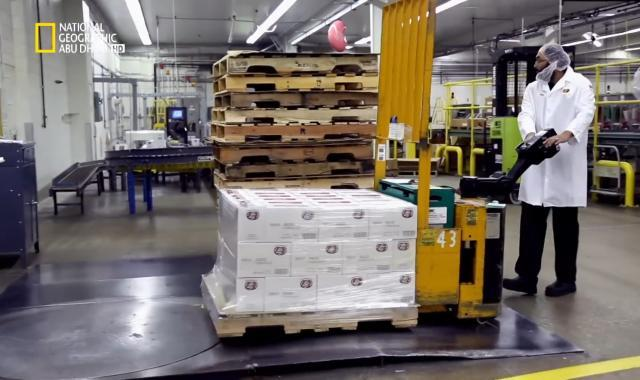Hairnet: (542, 40, 573, 68)
No_Apron: (523, 76, 581, 204), (534, 65, 558, 81)
No_Glove: (541, 131, 569, 148)
